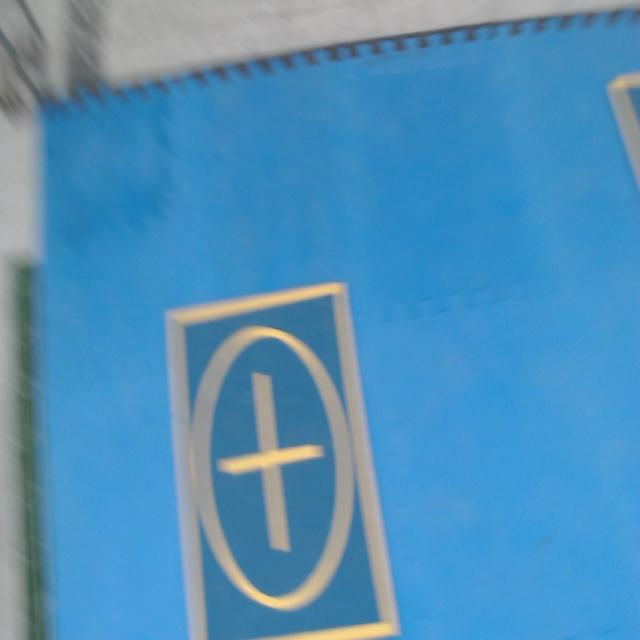base_pouso: (164, 278, 401, 639), (603, 69, 640, 194)
